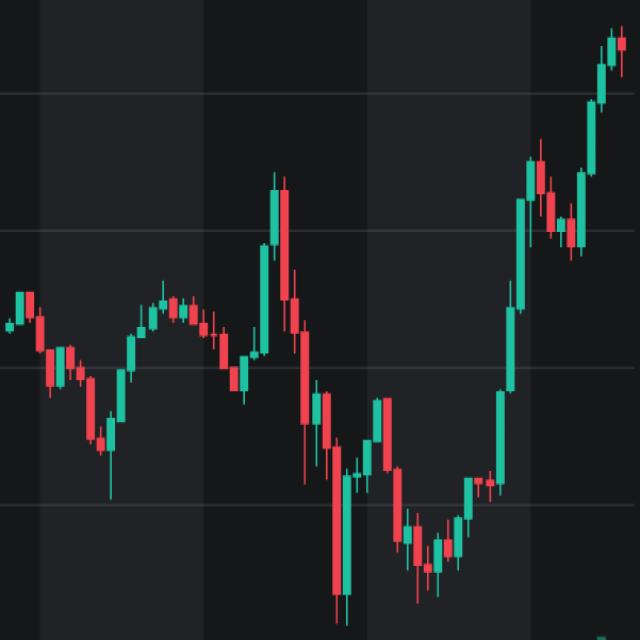Ascending-Triangle: (5, 283, 379, 592)
